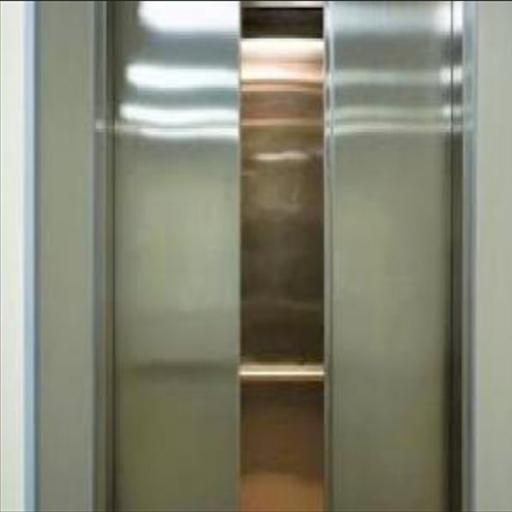closet: (95, 0, 466, 512)
